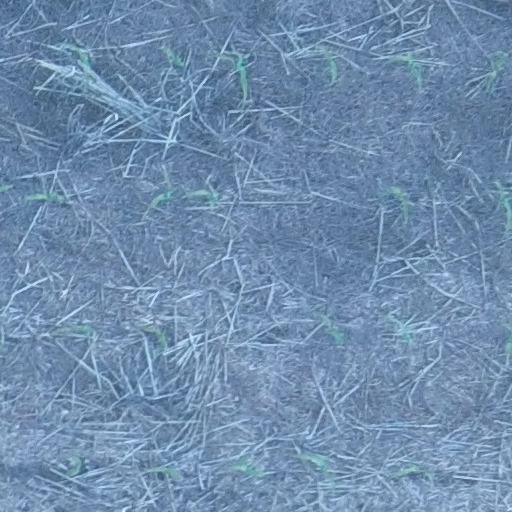planta: (215, 49, 249, 99), (290, 452, 339, 484), (145, 173, 174, 215), (66, 38, 93, 81), (380, 184, 411, 221), (484, 51, 511, 93), (386, 459, 435, 482), (391, 53, 423, 85), (317, 44, 338, 84), (316, 310, 343, 341), (183, 187, 220, 209), (227, 456, 265, 477), (142, 325, 167, 352), (50, 323, 94, 337), (145, 465, 183, 481), (18, 191, 65, 203), (64, 452, 82, 477)
